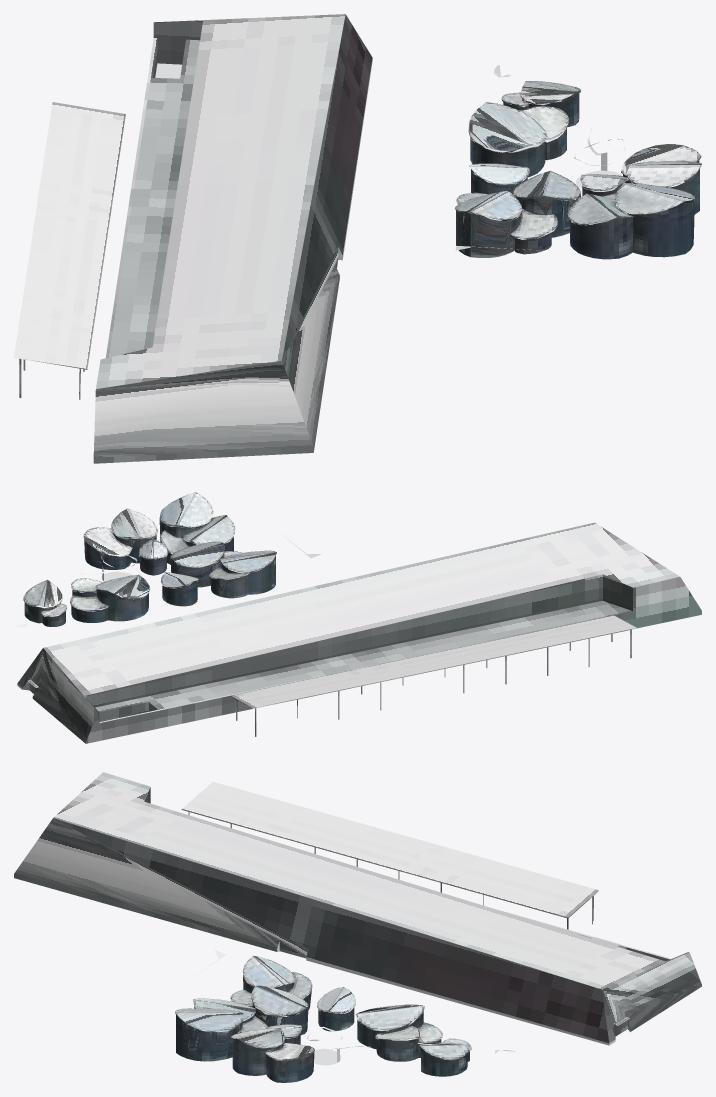
3 views of the same model, one above another, from view 1: azimuth 30°, elevation 25°; view 2: azimuth 150°, elevation 25°; view 3: azimuth 270°, elevation 25° (orthographic). The views are drawn at different scales.
Parts seen in each view (by area): view 1: Buildings_建物パビリオン; view 2: Buildings_建物パビリオン; view 3: Buildings_建物パビリオン.
Part boxes in pixels (x1,y1,x2,y2): Buildings_建物パビリオン: (14, 14, 701, 463); Buildings_建物パビリオン: (14, 492, 701, 743); Buildings_建物パビリオン: (14, 772, 701, 1082).
Size of the model in its own units: 129 by 12.82 by 136.
9 materials, 8 textured.
